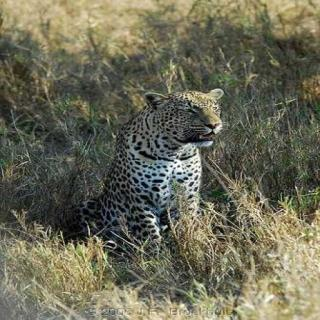Leopard: (98, 82, 229, 290)
